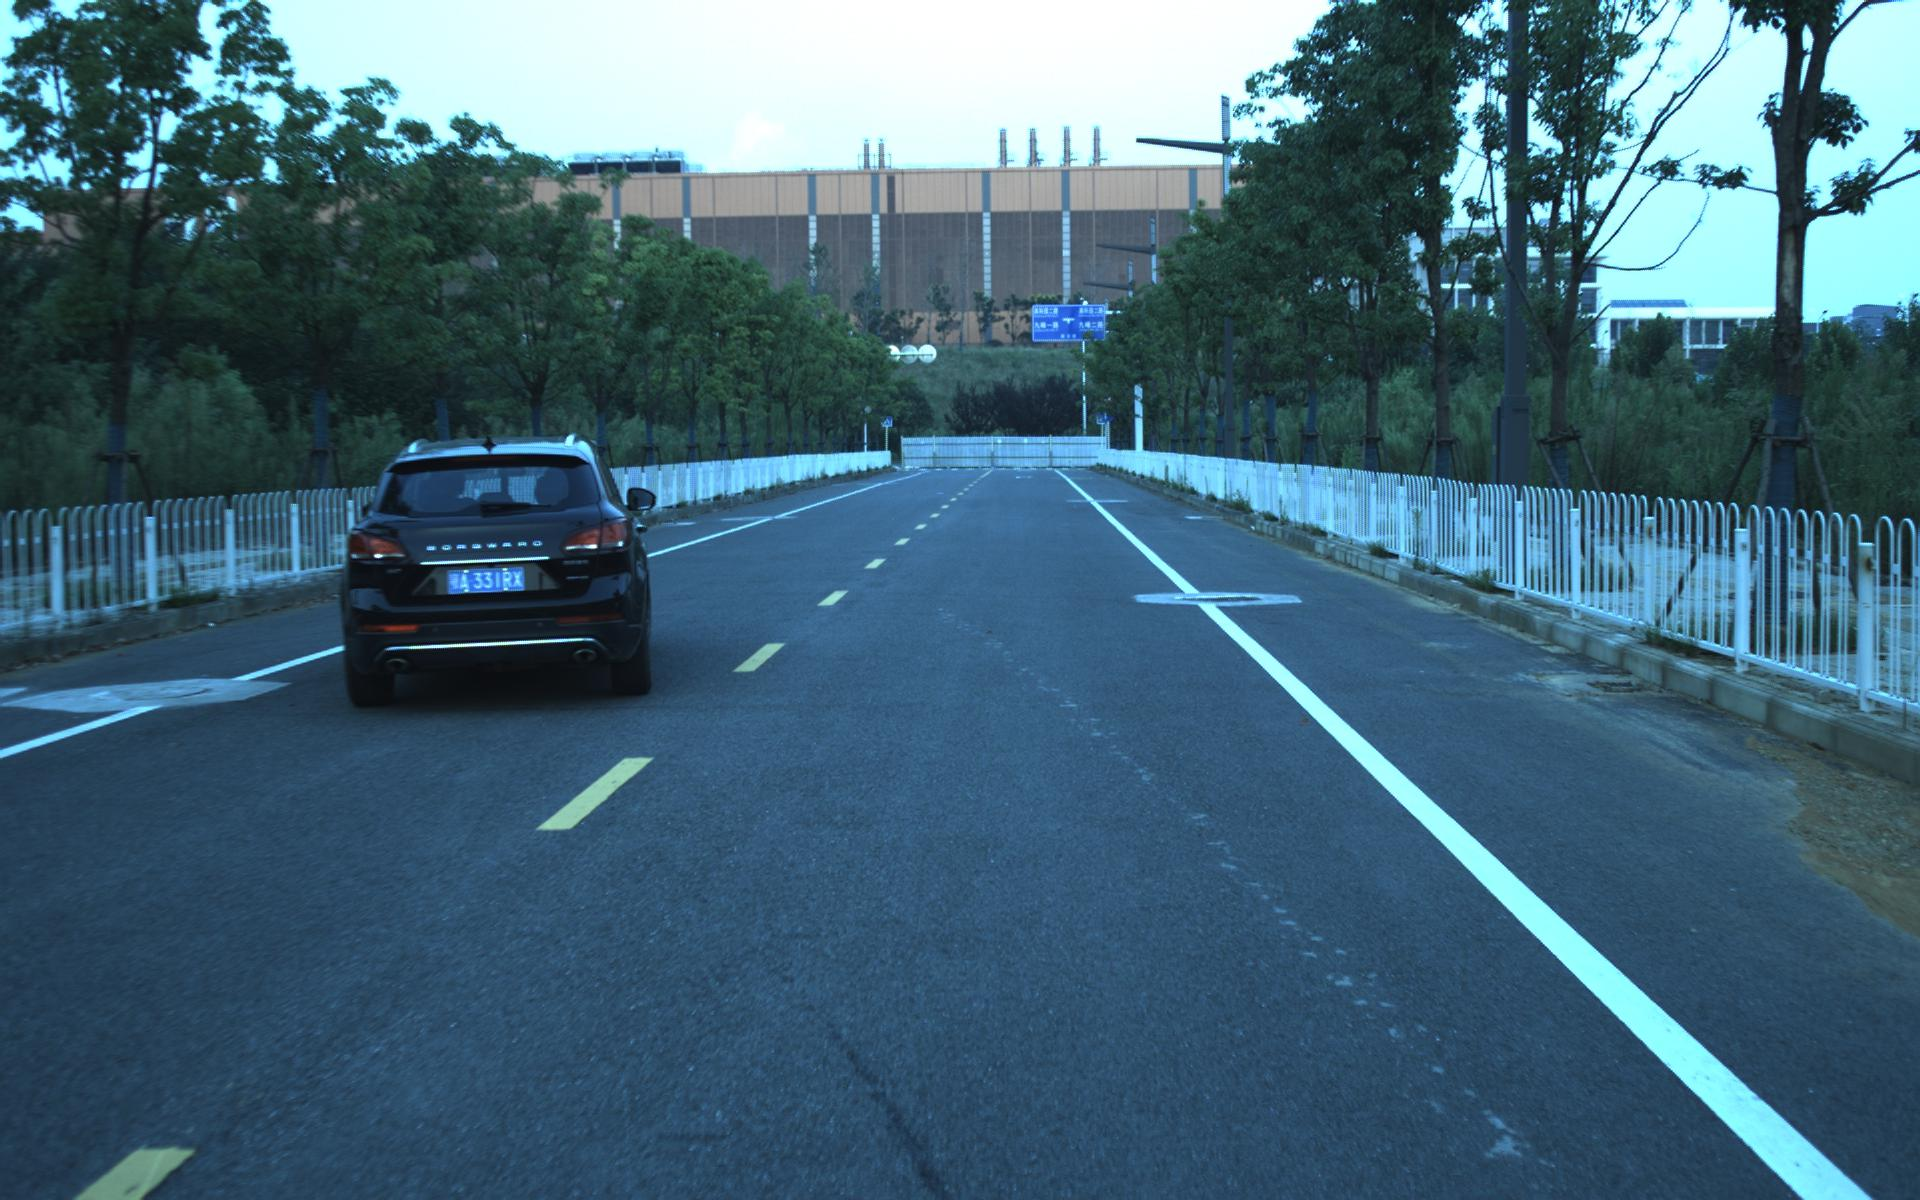Car: (326, 429, 662, 711)
